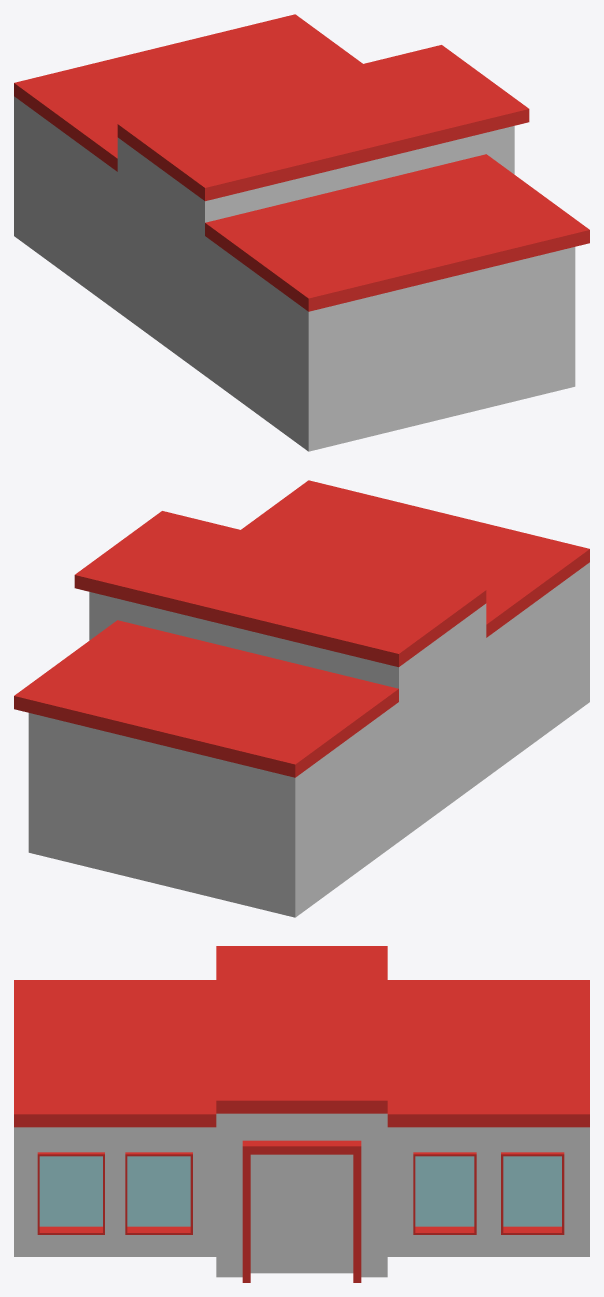
The model's file is Building 8.fbx.
3 views of the same model, one above another, from view 1: azimuth 30°, elevation 25°; view 2: azimuth 150°, elevation 25°; view 3: azimuth 270°, elevation 25° (orthographic). The views are drawn at different scales.
Visible parts, largest first — view 1: Building41; view 2: Building41; view 3: Building41.
Part boxes in pixels (x1,y1,x2,y2): Building41: (14,14,589,451); Building41: (14,480,589,917); Building41: (14,946,589,1282).
Size of the model in its own units: 769 by 426 by 1211.
